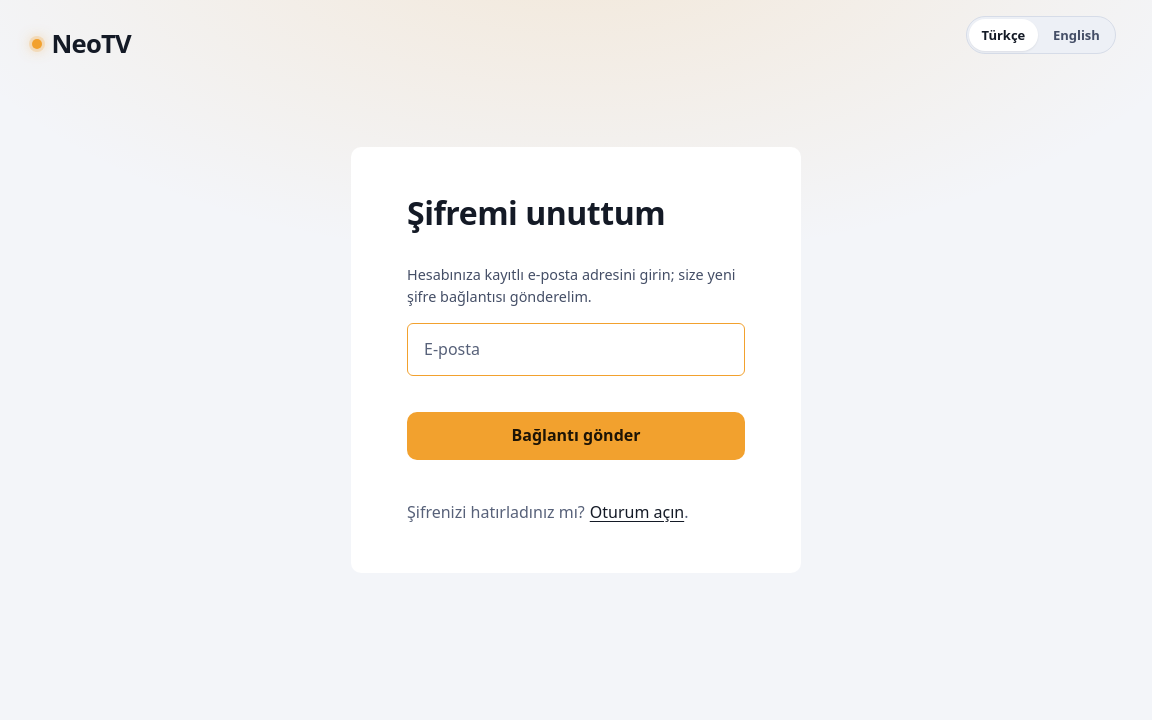
Test: ForgotPasswordPage › shows the same neutral confirmation after submitting
This screenshot has width=1152, height=720.
Step 1. Type "ali@example.com" into the field with placeholder "E-posta" → (576, 350), box [407,323,745,376]
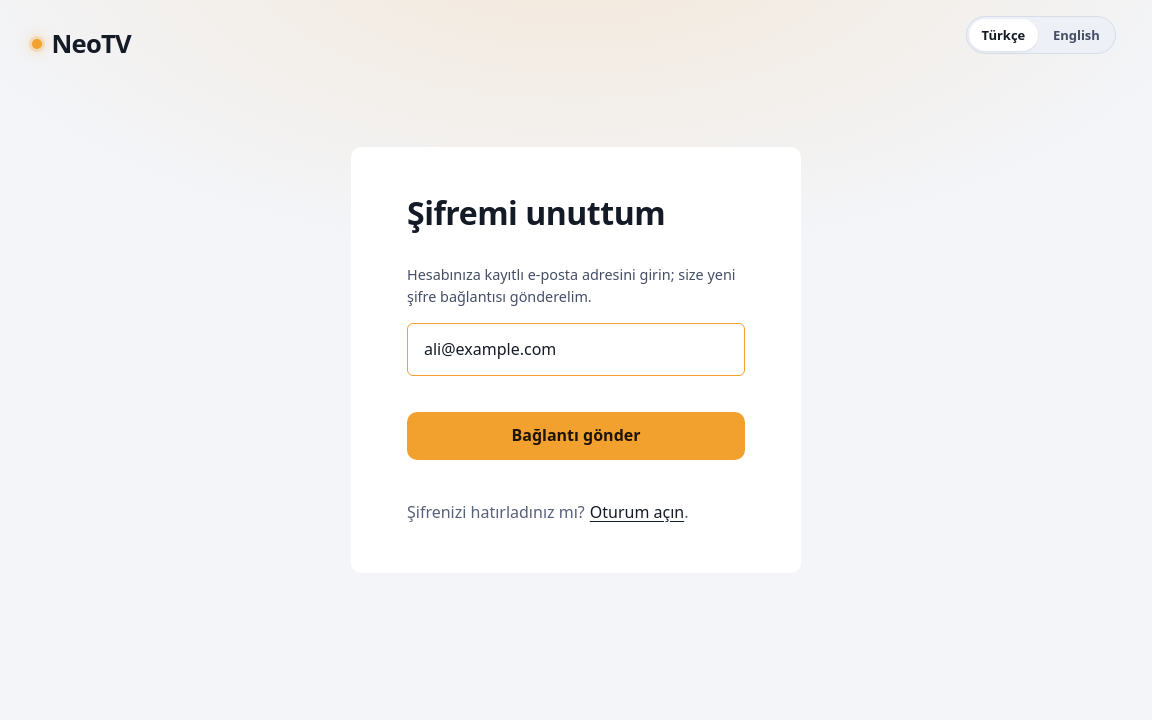
Step 2. Click the button "Bağlantı gönder" → (576, 436), box [407,412,745,460]
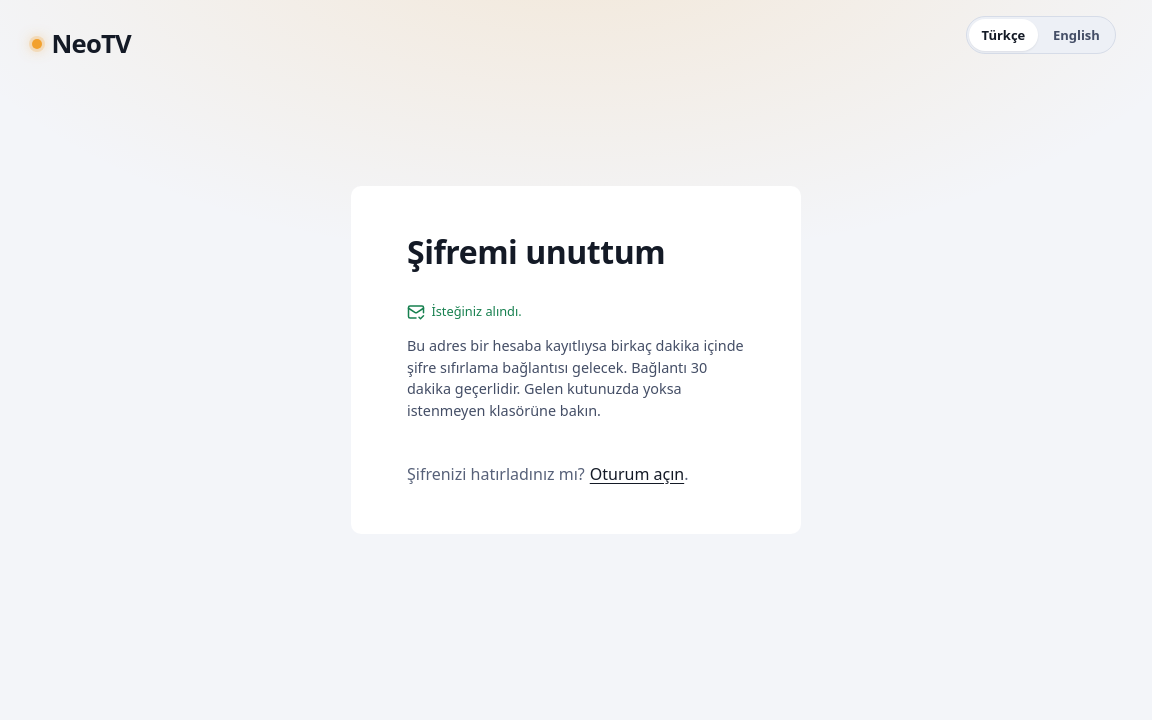
Check: the message shows "İsteğiniz alındı", box [431,302,522,320]
